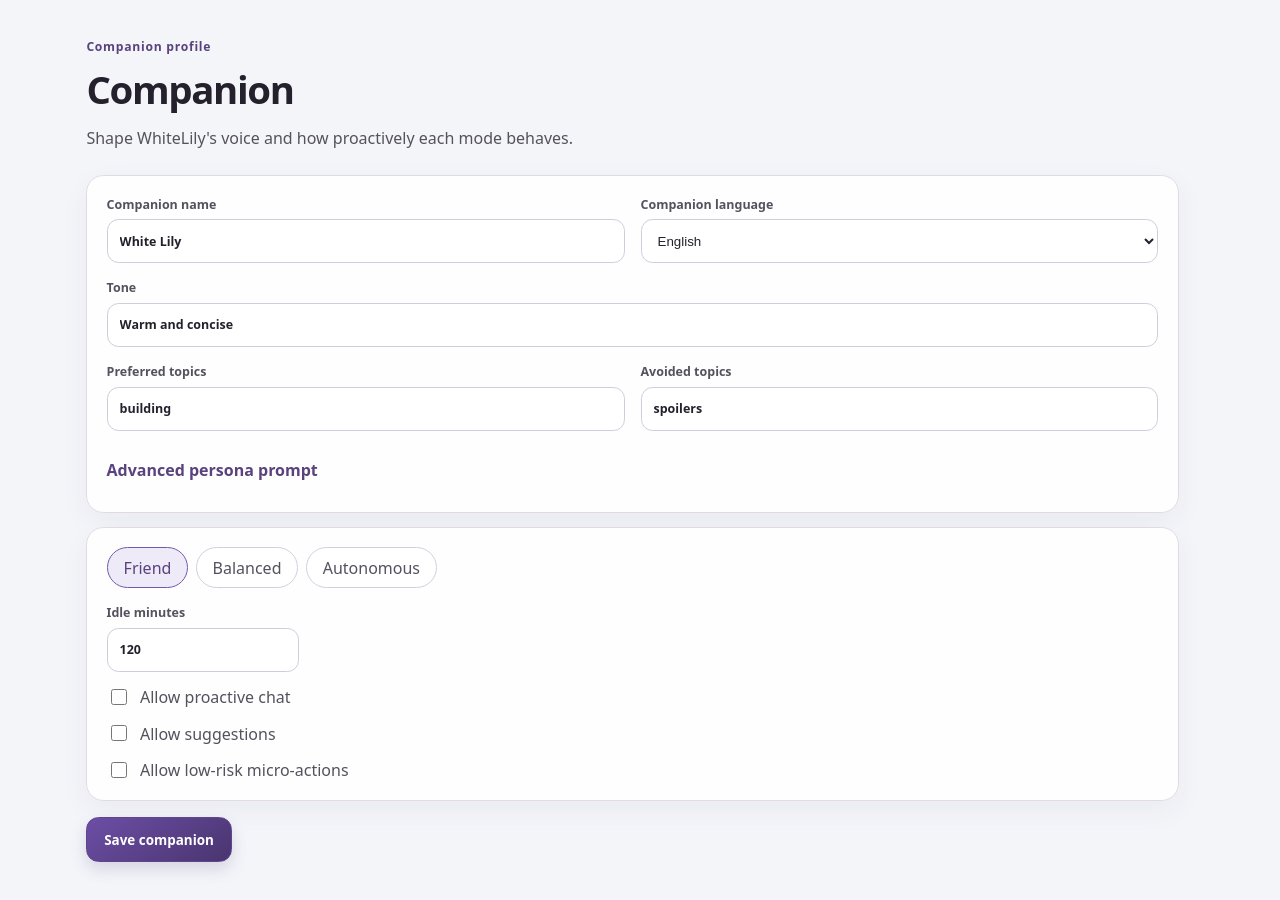
Test: PersonaPage › keeps the advanced persona collapsed while exposing guided fields
Expected: the field labelled "Companion name" holds "White Lily", [107,219,624,263]
Expected: the field labelled "Tone" holds "Warm and concise", [107,303,1158,347]
Click the button "Advanced persona prompt" at (212, 470), box [107,447,1158,493]
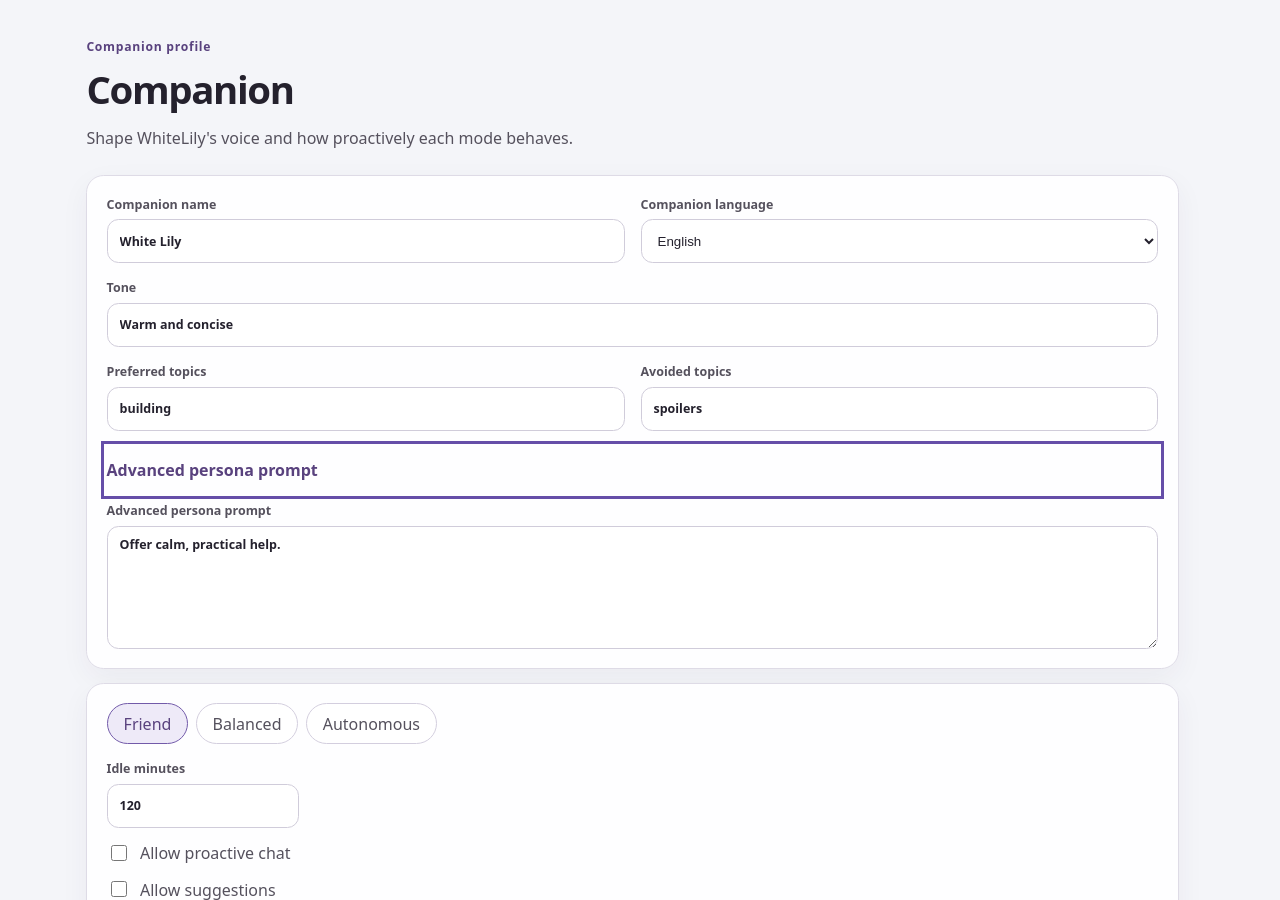
Expected: the text box labelled "Advanced persona prompt" holds "Offer calm, practical help.", [107,526,1158,648]
